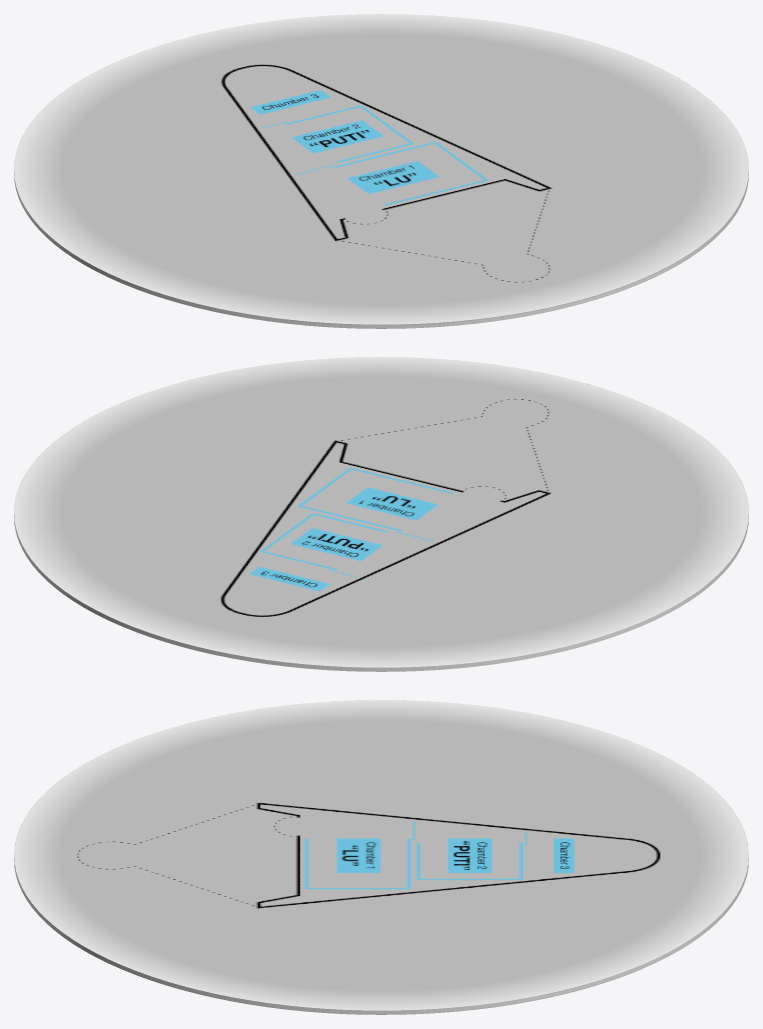
The model's file is floor_disc_static.fbx.
3 views of the same model, one above another, from view 1: azimuth 30°, elevation 25°; view 2: azimuth 150°, elevation 25°; view 3: azimuth 270°, elevation 25° (orthographic).
Parts seen in each view (by area): view 1: floor_disc_floorplan; view 2: floor_disc_floorplan; view 3: floor_disc_floorplan.
Part boxes in pixels (x1,y1,x2,y2): floor_disc_floorplan: (14,14,748,328); floor_disc_floorplan: (14,357,748,671); floor_disc_floorplan: (14,700,748,1014).
Bounding box in the file's own units: 3200 × 108 × 3200.
Materials: 1 (1 with a texture image).
